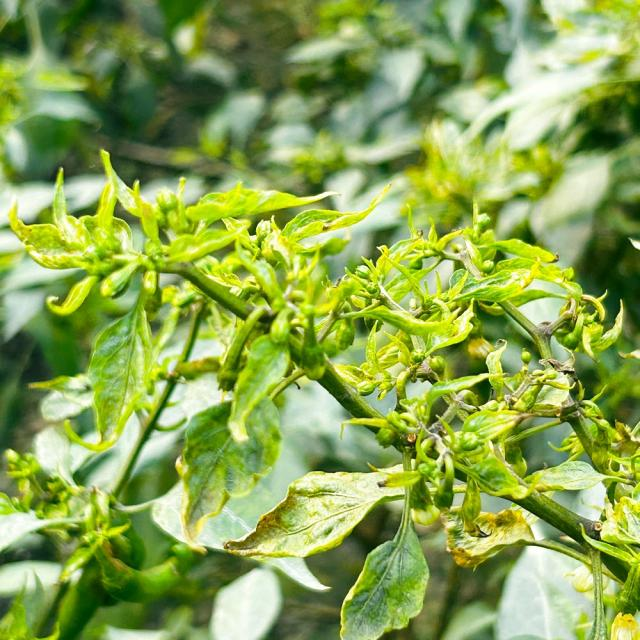Chilli_Leaf_Curl: (3, 148, 638, 638), (222, 463, 417, 560), (174, 395, 284, 543), (338, 484, 430, 638), (442, 506, 534, 571)
